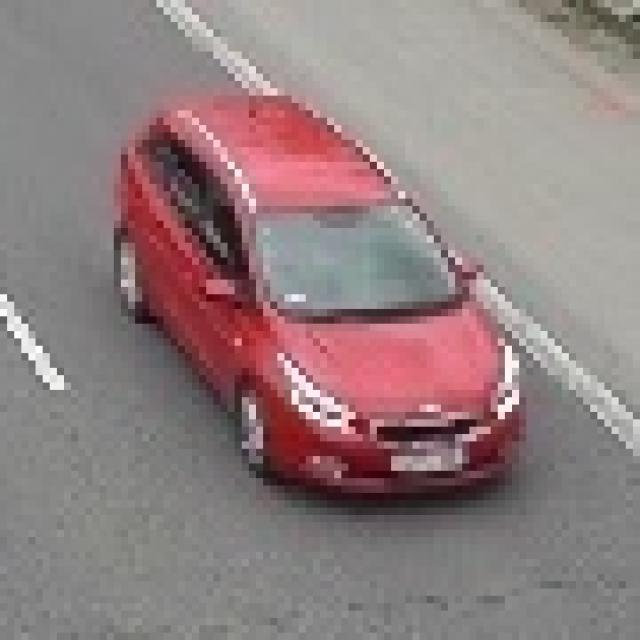red: (114, 94, 535, 499)
